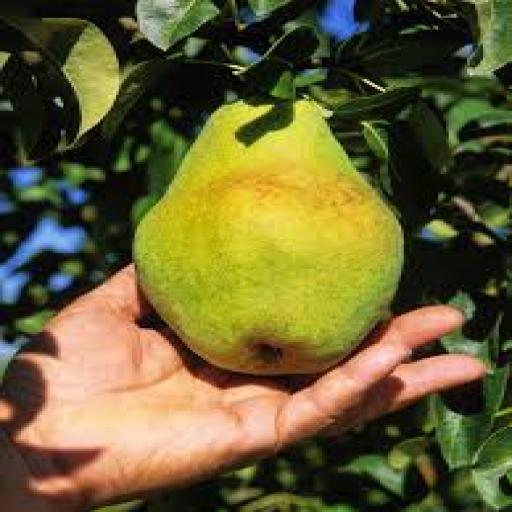Pear: (135, 101, 403, 375)
